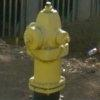Hydrant: (20, 2, 76, 100)
